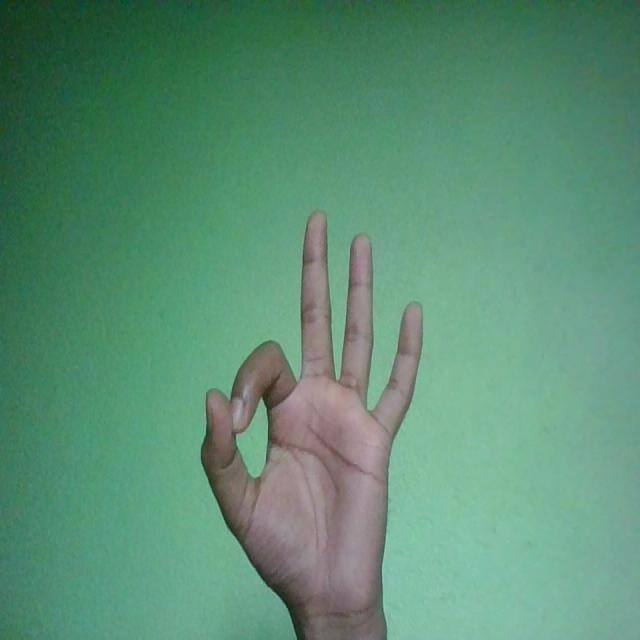Rock On: (200, 210, 425, 633)
